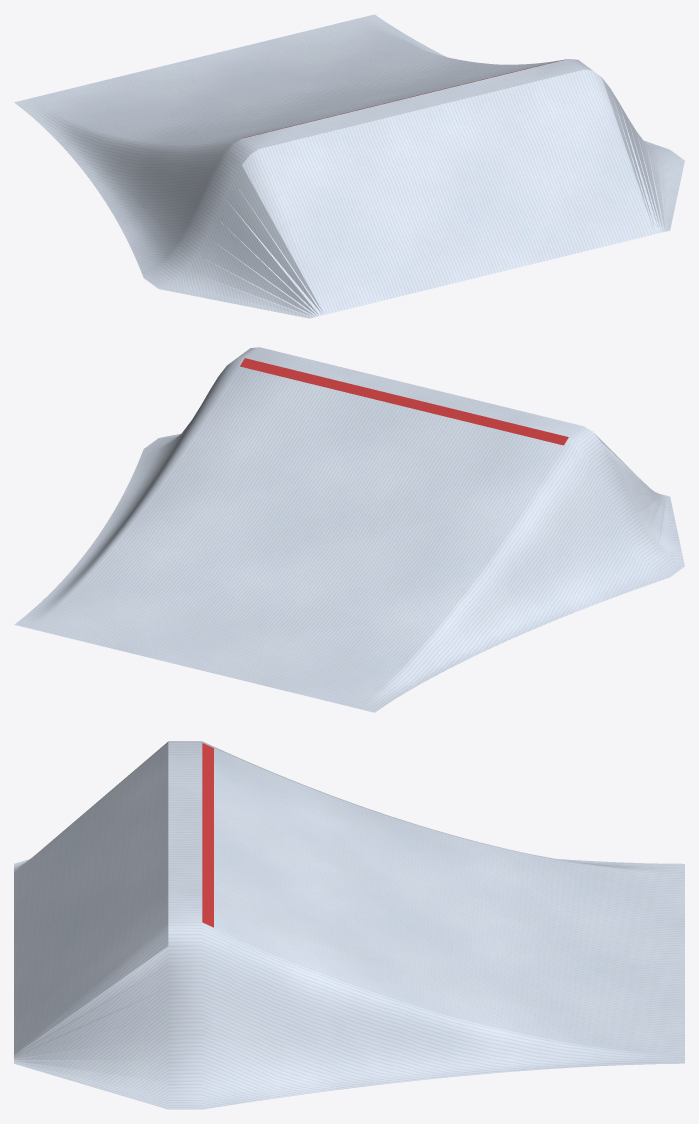
File: SM_GapJump.glb
3 renders of one model, top to bottom at view 1: azimuth 30°, elevation 25°; view 2: azimuth 150°, elevation 25°; view 3: azimuth 270°, elevation 25°, orthographic. The views are drawn at different scales.
Visible parts, largest first — view 1: SM_GapJump; view 2: SM_GapJump, Lip; view 3: SM_GapJump, Lip.
Part boxes in pixels (x1,y1,x2,y2): SM_GapJump: (14,14,684,318); SM_GapJump: (14,347,684,712); Lip: (240,358,568,445); SM_GapJump: (14,741,684,1109); Lip: (202,743,213,927).
Bounding box in the file's own units: 7.15 × 1.5 × 6.95.
Materials: 2 (1 with a texture image).
